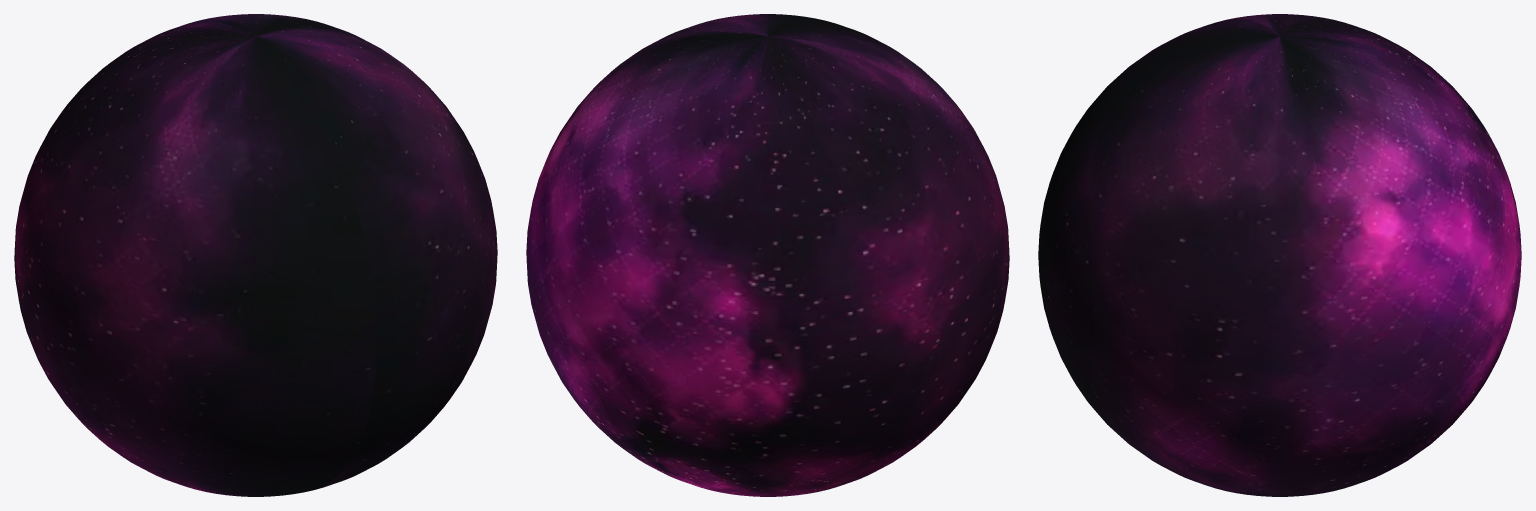
The model's file is plate.glb.
3 renders of one model, left to right at view 1: azimuth 30°, elevation 25°; view 2: azimuth 150°, elevation 25°; view 3: azimuth 270°, elevation 25°, orthographic.
Parts seen in each view (by area): view 1: Sphere; view 2: Sphere; view 3: Sphere.
Part boxes in pixels (x1,y1,x2,y2): Sphere: (14, 14, 497, 496); Sphere: (526, 14, 1009, 496); Sphere: (1038, 14, 1521, 496).
Size of the model in its own units: 5041 by 5041 by 5041.
Materials: 2 (2 with a texture image).
